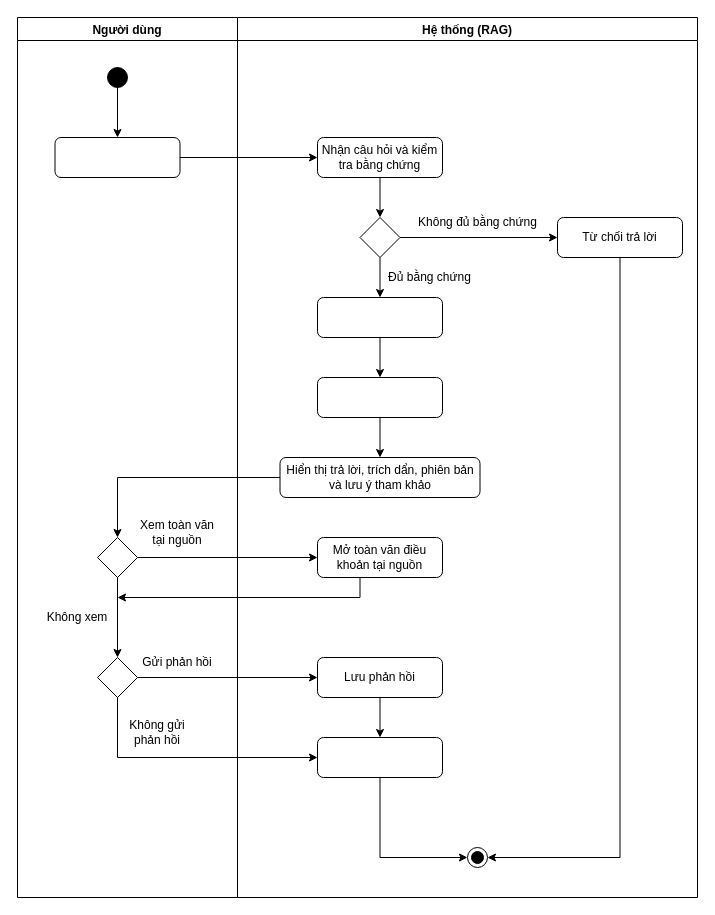
The diagram is 715 pixels wide and 915 high, and some of its shapes have lost their labels. The shapes that lost their labels are listed below. From the top down, each one's box as (x1, y1, x2, y2) in pixels, then its label:
(54, 136, 180, 178): Nhập câu hỏi
(316, 296, 442, 338): Sinh câu trả lời từ bằng chứng
(316, 376, 442, 418): Gắn trích dẫn và phiên bản
(316, 736, 442, 778): Ghi nhật ký
